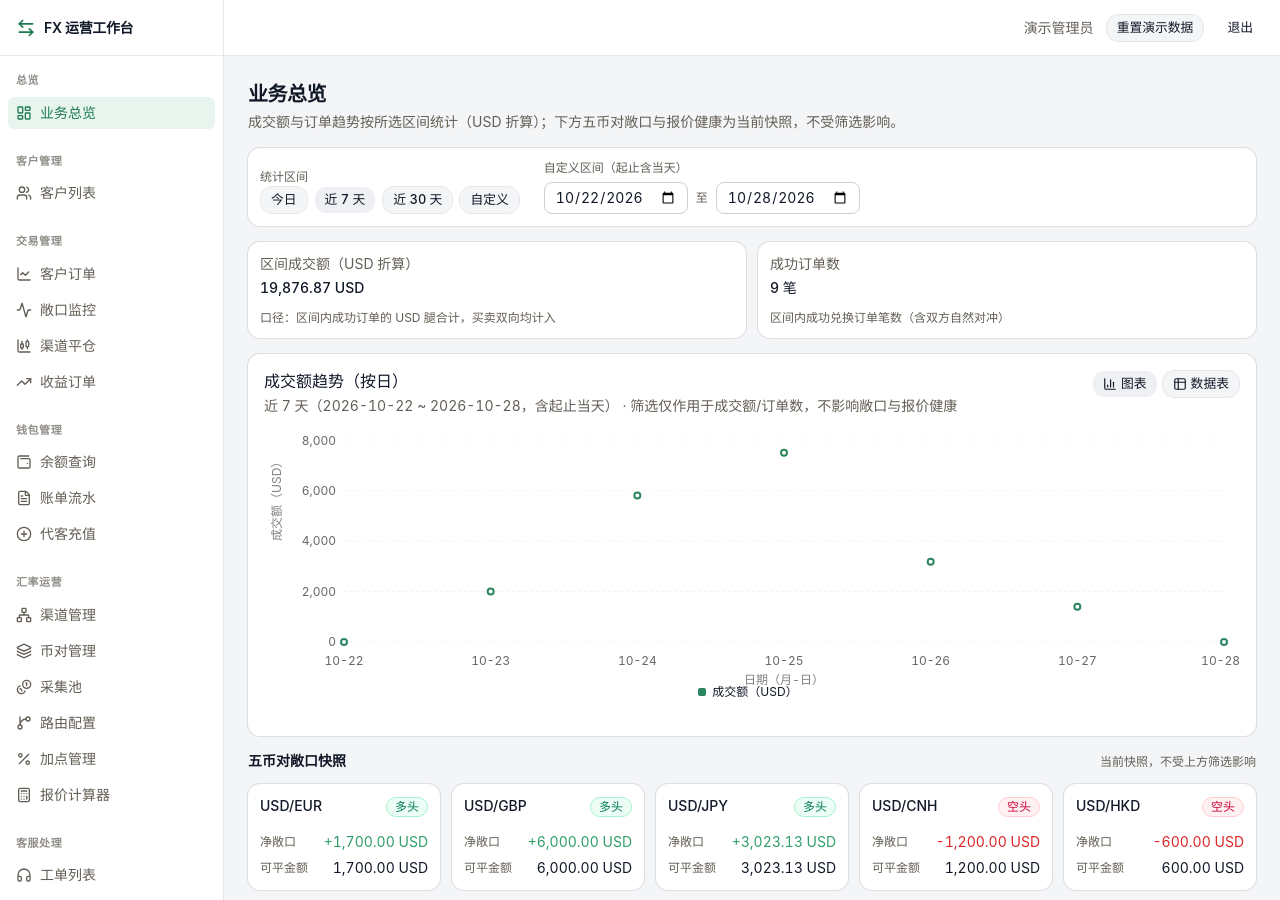
Test case: 表格语义与弹窗键盘可用 › 确认弹窗：打开后 role=alertdialog 且有可读标题与描述（键盘 ESC 可关闭由 Radix 内建）
Click the button "重置演示数据" at (1155, 28), box [1106,14,1204,42]
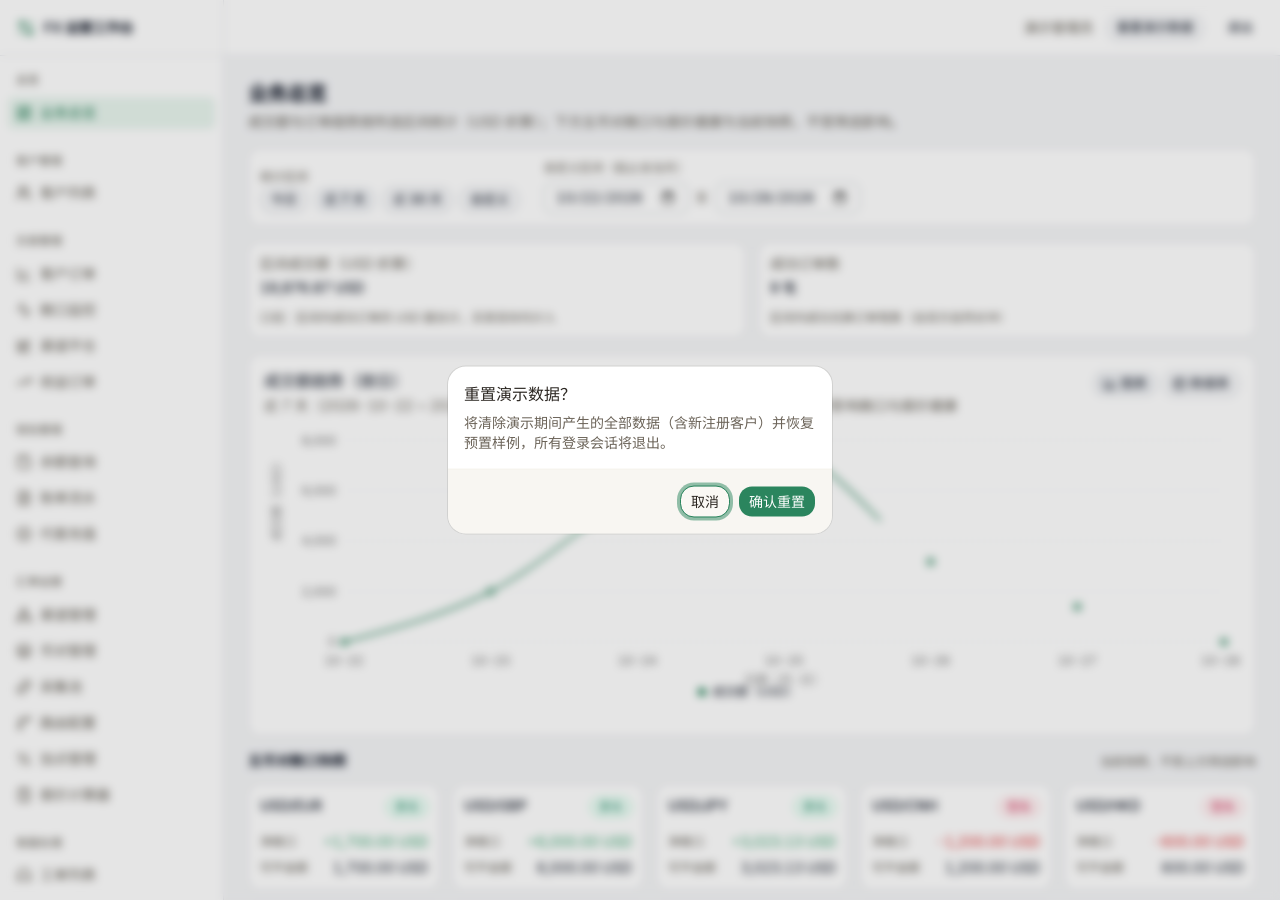
expect the dialog is shown: met, box [448,366,832,534]
expect the heading "重置演示数据？" is shown: met, box [464,382,576,406]
